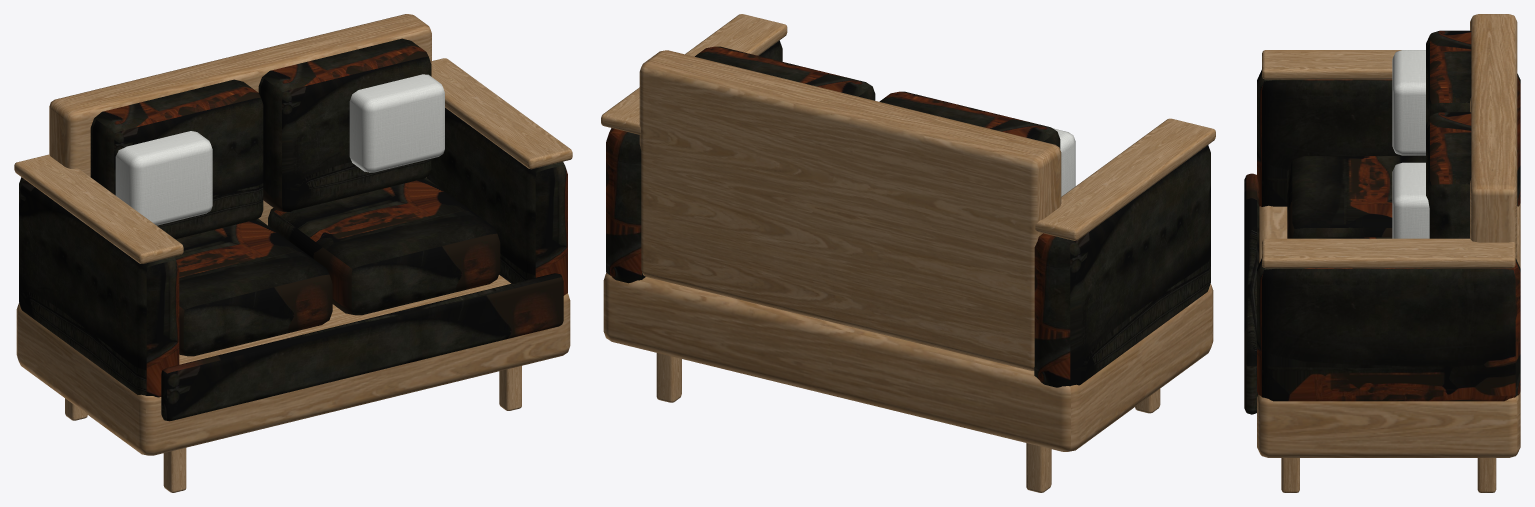
The model's file is sofa_2-seater_wine.glb.
3 views of the same model, side by side, from view 1: azimuth 30°, elevation 25°; view 2: azimuth 150°, elevation 25°; view 3: azimuth 270°, elevation 25° (orthographic). The views are drawn at different scales.
Visible parts, largest first — view 1: sofa base, front rail, armrest, seat cushion.001, back cushion.001, seat cushion, back cushion, armrest.001, back frame, accent cushion.001, accent cushion, arm timber cap (+3 smaller); view 2: back frame, sofa base, armrest, arm timber cap, armrest.001, arm timber cap.001, back cushion, back cushion.001, timber foot.003, timber foot.001, accent cushion; view 3: armrest.001, sofa base, armrest, back frame, seat cushion, arm timber cap.001, back cushion.001, arm timber cap, back cushion, accent cushion, front rail, accent cushion.001 (+2 smaller).
Part boxes in pixels (<box>): sofa base: <box>16,275,570,455</box>; front rail: <box>161,273,563,421</box>; armrest: <box>19,177,179,397</box>; seat cushion.001: <box>268,178,500,315</box>; back cushion.001: <box>258,38,431,211</box>; seat cushion: <box>174,218,332,356</box>; back cushion: <box>90,79,263,239</box>; armrest.001: <box>426,107,567,295</box>; back frame: <box>49,14,431,225</box>; accent cushion.001: <box>349,74,444,172</box>; accent cushion: <box>115,131,212,225</box>; arm timber cap: <box>14,154,183,263</box>; back frame: <box>639,50,1061,370</box>; sofa base: <box>603,273,1213,451</box>; armrest: <box>1034,145,1210,387</box>; arm timber cap: <box>1035,118,1215,240</box>; armrest.001: <box>606,40,782,283</box>; arm timber cap.001: <box>601,14,787,134</box>; back cushion: <box>879,91,1060,148</box>; back cushion.001: <box>695,46,875,100</box>; timber foot.003: <box>656,353,681,402</box>; timber foot.001: <box>1026,443,1051,492</box>; accent cushion: <box>1053,128,1075,196</box>; armrest.001: <box>1257,258,1520,401</box>; sofa base: <box>1257,203,1520,457</box>; armrest: <box>1257,70,1520,206</box>; back frame: <box>1470,14,1517,260</box>; seat cushion: <box>1287,156,1425,238</box>; arm timber cap.001: <box>1262,238,1515,268</box>; back cushion.001: <box>1426,112,1471,238</box>; arm timber cap: <box>1262,50,1401,79</box>; back cushion: <box>1426,30,1471,124</box>; accent cushion: <box>1392,50,1425,155</box>; front rail: <box>1244,173,1259,414</box>; accent cushion.001: <box>1392,162,1429,238</box>.
Size of the model in its own units: 1.47 by 1.01 by 0.8175.
Materials: 4 (4 with a texture image).
